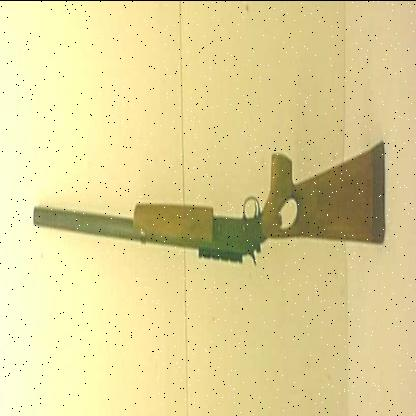rifle: (25, 91, 397, 296)
